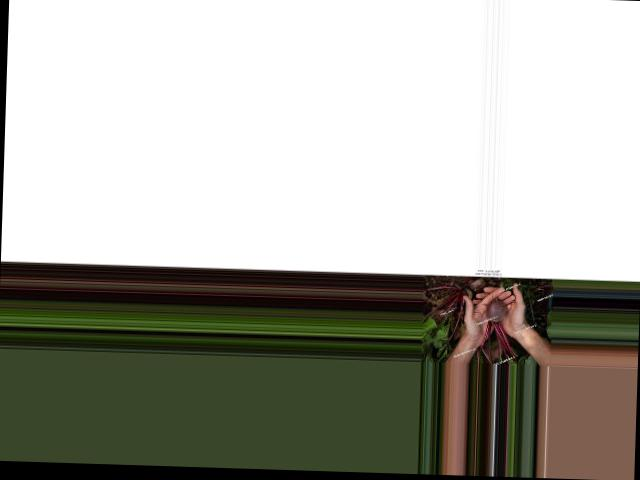beet: (478, 296, 520, 363)
